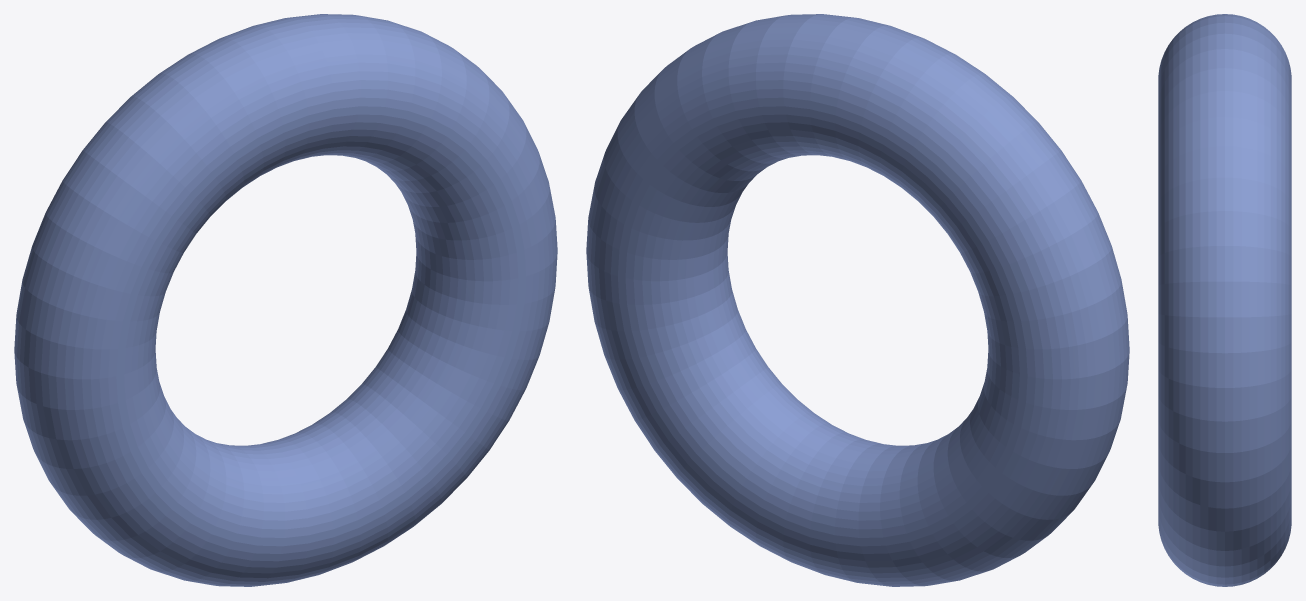
3 views of the same model, side by side, from view 1: azimuth 30°, elevation 25°; view 2: azimuth 150°, elevation 25°; view 3: azimuth 270°, elevation 25° (orthographic). The views are drawn at different scales.
Parts seen in each view (by area): view 1: world; view 2: world; view 3: world.
Boxes of the visible parts, <box> form: world: <box>14,14,557,586</box>; world: <box>586,14,1129,586</box>; world: <box>1158,14,1291,586</box>.
Size of the model in its own units: 20 by 19.96 by 4.66.
